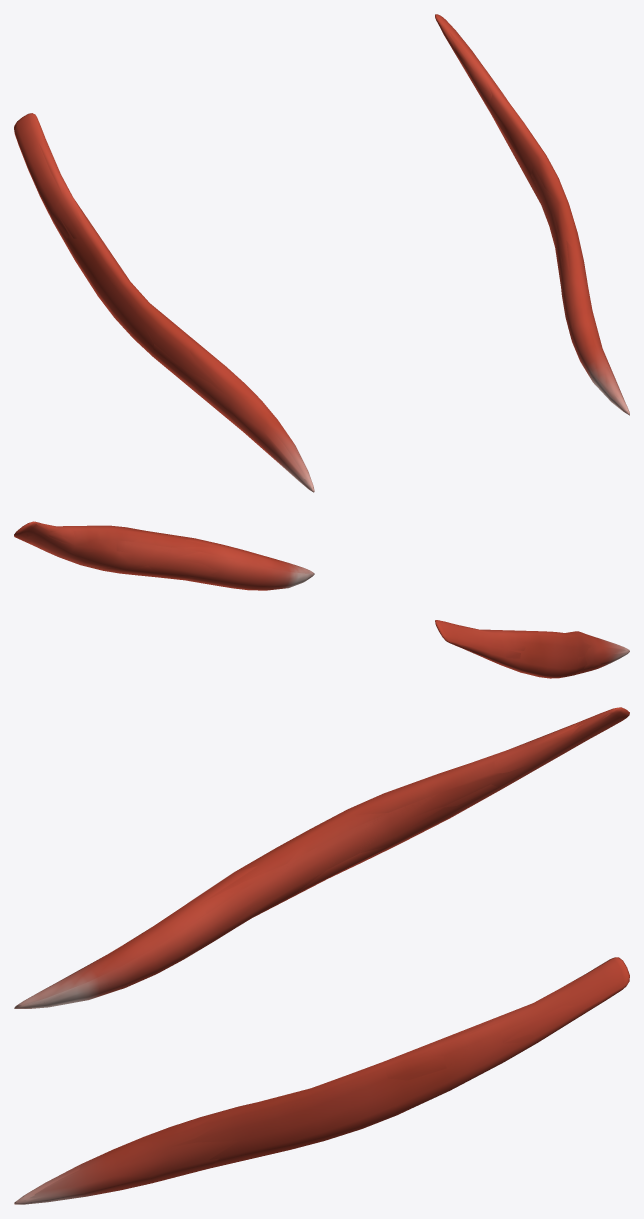
Rendered from Zygomaticus.fbx.
3 views of the same model, one above another, from view 1: azimuth 30°, elevation 25°; view 2: azimuth 150°, elevation 25°; view 3: azimuth 270°, elevation 25° (orthographic). The views are drawn at different scales.
Parts seen in each view (by area): view 1: Zygomaticus, Zygomaticus low; view 2: Zygomaticus, Zygomaticus low; view 3: Zygomaticus, Zygomaticus low.
Part boxes in pixels (x1,y1,x2,y2): Zygomaticus: [14, 14, 629, 491]; Zygomaticus low: [21, 15, 629, 492]; Zygomaticus: [14, 521, 629, 678]; Zygomaticus low: [17, 523, 627, 677]; Zygomaticus: [14, 707, 629, 1204]; Zygomaticus low: [14, 708, 622, 1204].
Size of the model in its own units: 9.71 by 4.41 by 8.98.
1 material, 1 textured.
